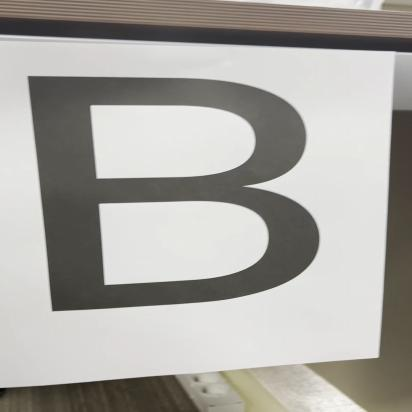seat: (16, 61, 328, 320)
